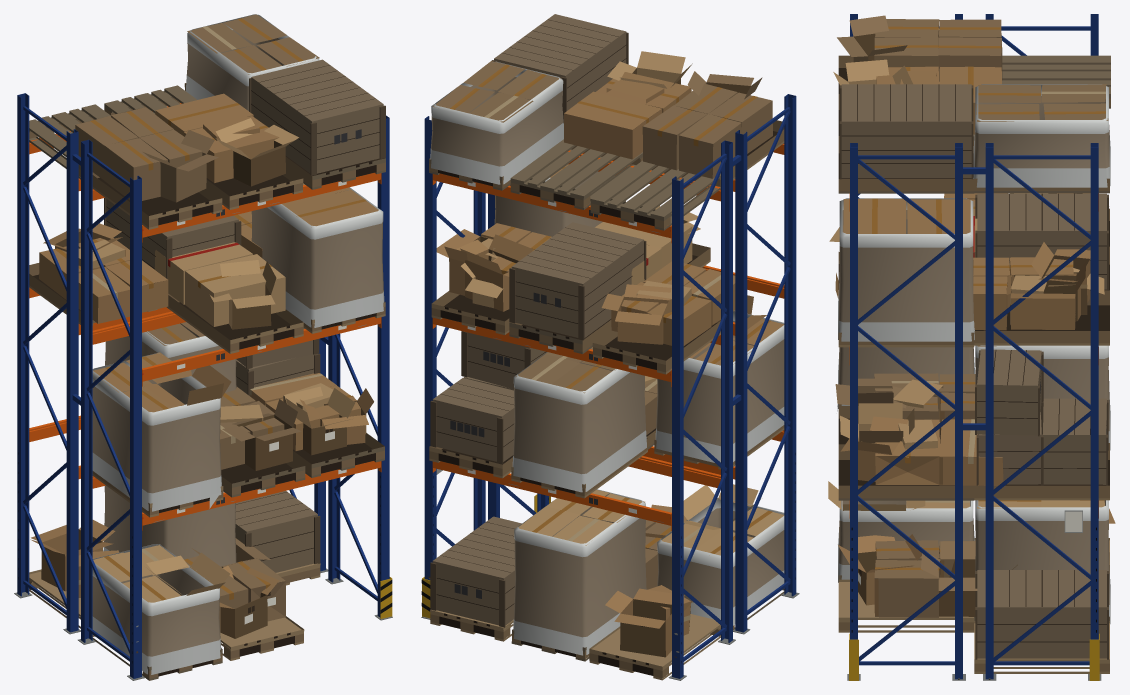
The model's file is rack@6.glb.
3 renders of one model, left to right at view 1: azimuth 30°, elevation 25°; view 2: azimuth 150°, elevation 25°; view 3: azimuth 270°, elevation 25°, orthographic. The views are drawn at different scales.
Parts seen in each view (by area): view 1: rack0, rack20, rack26, rack27, rack22, rack19, rack16, rack10, rack15, rack14, rack25, rack13 (+5 smaller); view 2: rack0, rack20, rack27, rack26, rack19, rack22, rack16, rack13, rack10, rack15, rack14, rack21 (+5 smaller); view 3: rack27, rack0, rack20, rack22, rack26, rack19, rack14, rack16, rack15, rack13, rack21, rack25 (+5 smaller).
Boxes of the visible parts, <box> form: rack0: <box>17,93,389,678</box>; rack20: <box>92,30,383,656</box>; rack26: <box>30,93,378,638</box>; rack27: <box>106,59,383,572</box>; rack22: <box>75,14,319,632</box>; rack19: <box>92,14,384,674</box>; rack16: <box>78,118,355,602</box>; rack10: <box>29,103,381,530</box>; rack15: <box>33,65,379,676</box>; rack14: <box>29,83,385,678</box>; rack25: <box>55,140,365,638</box>; rack13: <box>29,83,385,680</box>; rack0: <box>424,94,796,678</box>; rack20: <box>431,77,784,637</box>; rack27: <box>432,14,643,625</box>; rack26: <box>436,72,784,656</box>; rack19: <box>430,61,784,655</box>; rack22: <box>433,61,772,589</box>; rack16: <box>461,51,784,555</box>; rack13: <box>429,139,784,661</box>; rack10: <box>432,143,784,530</box>; rack15: <box>436,19,777,675</box>; rack14: <box>429,120,784,678</box>; rack21: <box>429,141,784,680</box>; rack27: <box>841,84,1106,658</box>; rack0: <box>850,14,1098,679</box>; rack20: <box>839,96,1109,604</box>; rack22: <box>835,15,1108,617</box>; rack26: <box>835,66,1115,605</box>; rack19: <box>837,84,1110,624</box>; rack14: <box>838,55,1110,671</box>; rack16: <box>828,28,1104,510</box>; rack15: <box>838,68,1109,642</box>; rack13: <box>838,55,1110,620</box>; rack21: <box>838,343,1109,673</box>; rack25: <box>854,33,1089,616</box>.
Size of the model in its own units: 2.84 by 5.46 by 2.54.
